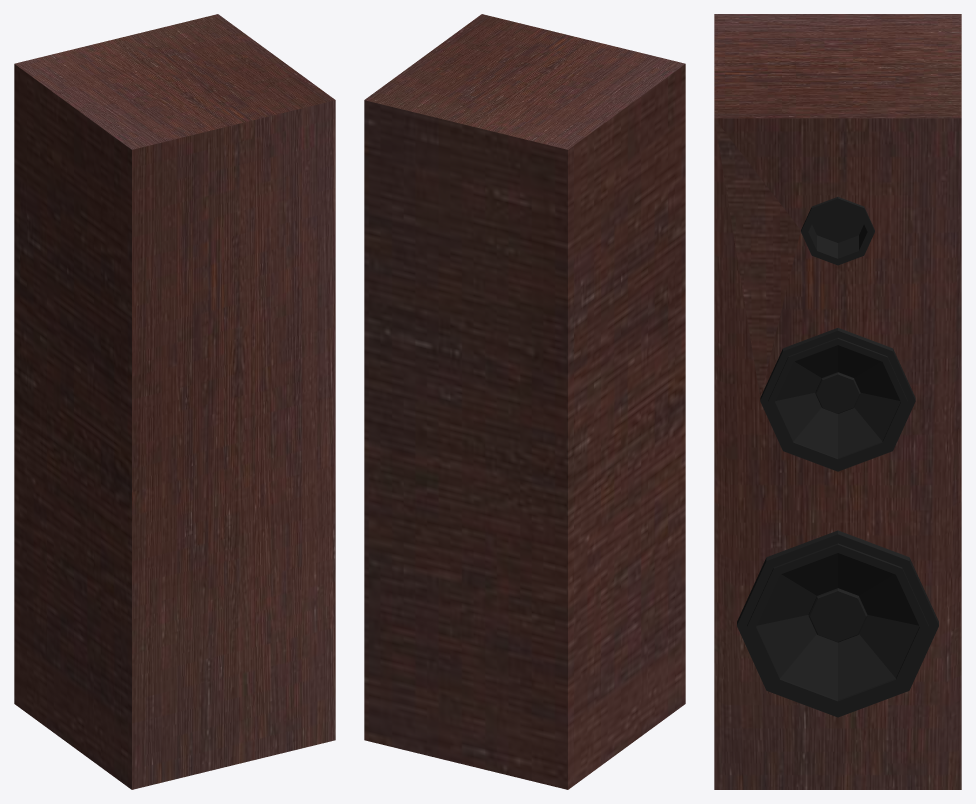
File: Speaker_Left.gltf
3 renders of one model, left to right at view 1: azimuth 30°, elevation 25°; view 2: azimuth 150°, elevation 25°; view 3: azimuth 270°, elevation 25°, orthographic. The views are drawn at different scales.
Visible parts, largest first — view 1: Speaker_Left; view 2: Speaker_Left; view 3: Speaker_Left.
Part boxes in pixels (x1,y1,x2,y2): Speaker_Left: (14, 14, 335, 789); Speaker_Left: (364, 14, 685, 789); Speaker_Left: (714, 14, 961, 789).
Bounding box in the file's own units: 2.1 × 6 × 2.
2 materials, 1 textured.
